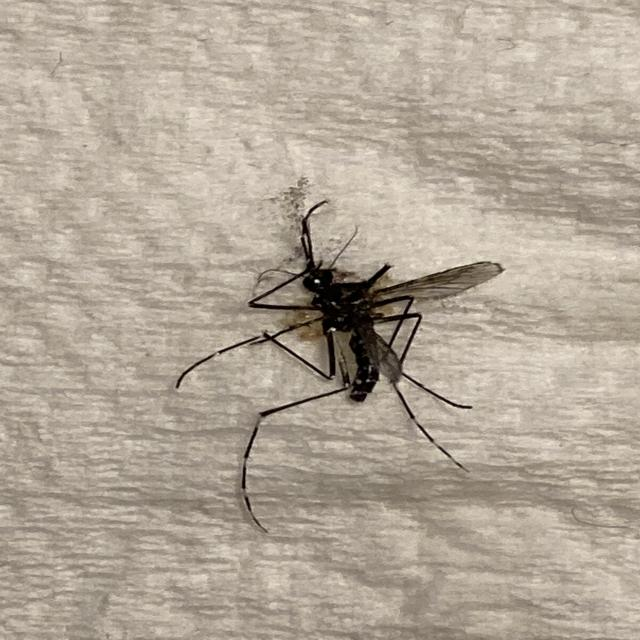albopictus: (173, 180, 508, 524)
